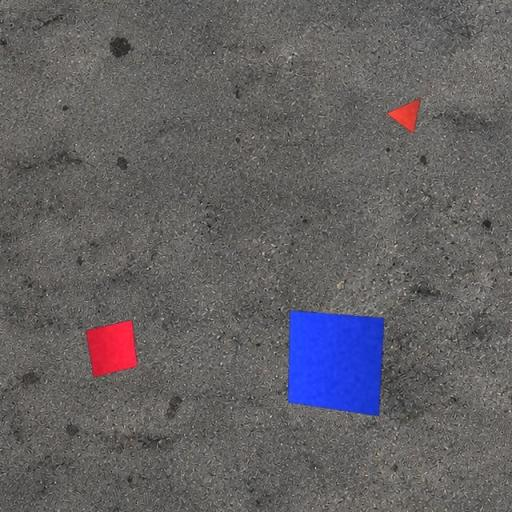BLUE_SQUARE: (287, 310, 385, 416)
RED_SQUARE: (85, 319, 138, 378)
